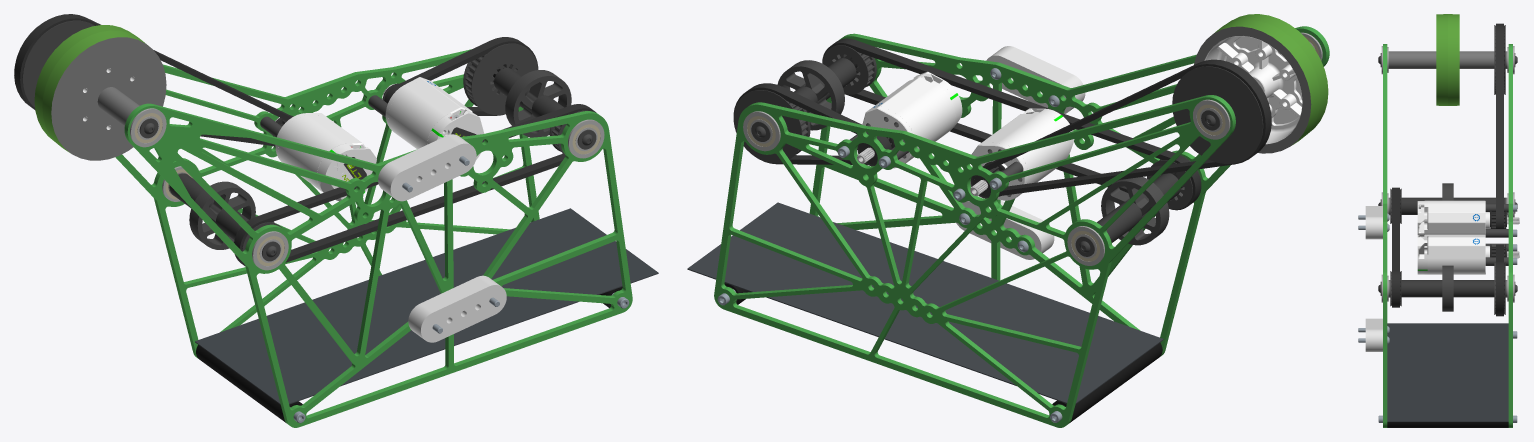
3 views of the same model, side by side, from view 1: azimuth 30°, elevation 25°; view 2: azimuth 150°, elevation 25°; view 3: azimuth 270°, elevation 25° (orthographic). The views are drawn at different scales.
Parts seen in each view (by area): view 1: NAUO42, NAUO24, NAUO38, NAUO19, NAUO15, NAUO51, NAUO13, NAUO11, NAUO60, NAUO62, NAUO9, NAUO26 (+10 smaller); view 2: NAUO38, NAUO24, NAUO42, NAUO19, NAUO15, NAUO48, NAUO11, NAUO9, NAUO60, NAUO49, NAUO26, NAUO51 (+10 smaller); view 3: NAUO24, NAUO11, NAUO60, NAUO19, NAUO38, NAUO42, NAUO9, NAUO15, NAUO30, NAUO67, NAUO13, NAUO51 (+16 smaller).
Part boxes in pixels (<box>): NAUO42: <box>124,103,632,427</box>; NAUO24: <box>195,208,658,404</box>; NAUO38: <box>115,49,539,358</box>; NAUO19: <box>34,25,166,160</box>; NAUO15: <box>234,104,596,265</box>; NAUO51: <box>378,134,476,201</box>; NAUO13: <box>408,275,506,342</box>; NAUO11: <box>383,77,480,159</box>; NAUO60: <box>275,113,365,201</box>; NAUO62: <box>463,43,537,115</box>; NAUO9: <box>14,14,292,146</box>; NAUO26: <box>505,70,571,137</box>; NAUO38: <box>714,95,1235,427</box>; NAUO24: <box>687,202,1163,403</box>; NAUO42: <box>809,26,1329,356</box>; NAUO19: <box>1194,14,1328,153</box>; NAUO15: <box>822,38,1201,210</box>; NAUO48: <box>1172,66,1268,163</box>; NAUO11: <box>857,77,962,168</box>; NAUO9: <box>982,59,1271,195</box>; NAUO60: <box>970,112,1074,200</box>; NAUO49: <box>1101,177,1169,245</box>; NAUO26: <box>777,60,844,130</box>; NAUO51: <box>986,46,1085,113</box>; NAUO24: <box>1387,323,1508,421</box>; NAUO11: <box>1417,234,1519,274</box>; NAUO60: <box>1424,200,1519,234</box>; NAUO19: <box>1436,14,1459,105</box>; NAUO38: <box>1508,44,1512,427</box>; NAUO42: <box>1383,44,1387,427</box>; NAUO9: <box>1496,23,1503,228</box>; NAUO15: <box>1392,187,1399,307</box>; NAUO30: <box>1390,51,1436,68</box>; NAUO67: <box>1387,422,1508,427</box>; NAUO13: <box>1365,318,1382,351</box>; NAUO51: <box>1365,206,1382,239</box>.
Bounding box in the file's own units: 0.5002 × 0.3322 × 0.1771.
